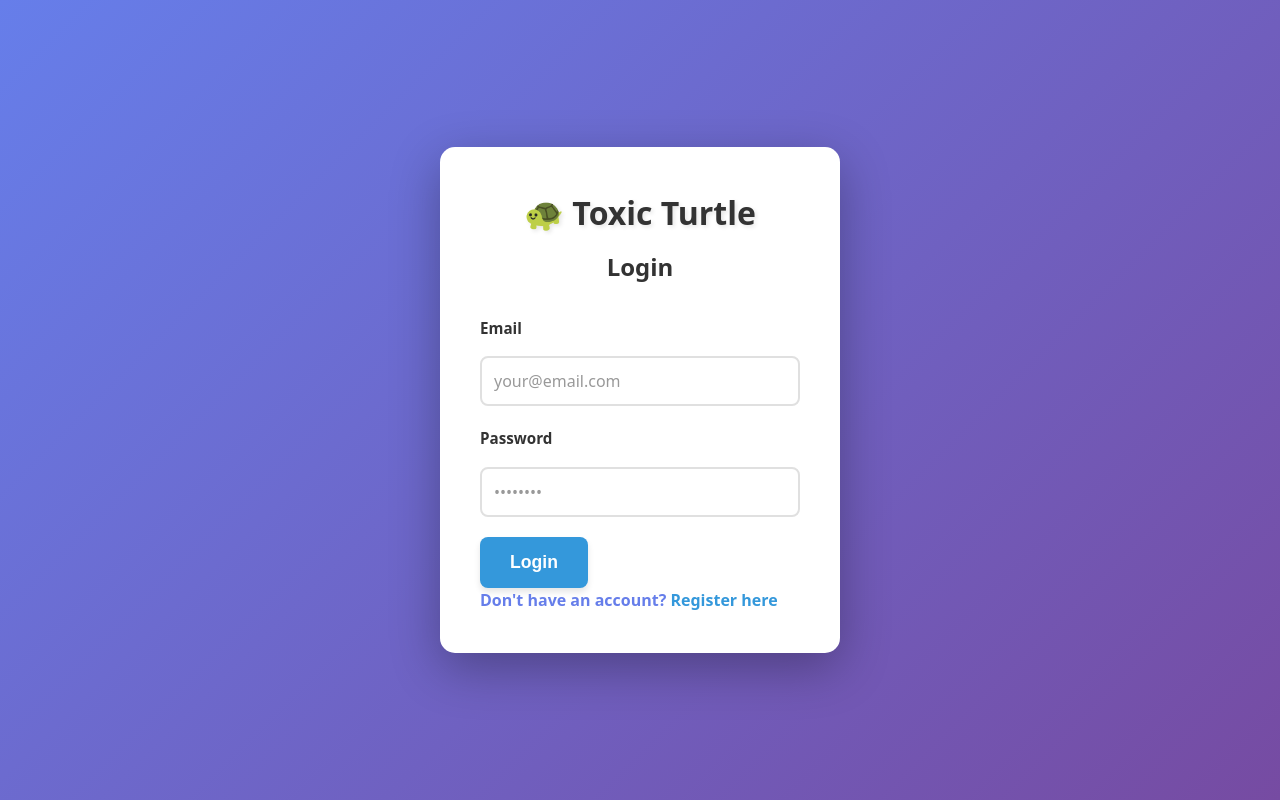
Test: LoginPage › should show error message on login failure
Type "test@example.com" into the field with placeholder "your@email.com". click: (640, 382)
box: [480,356,800,406]
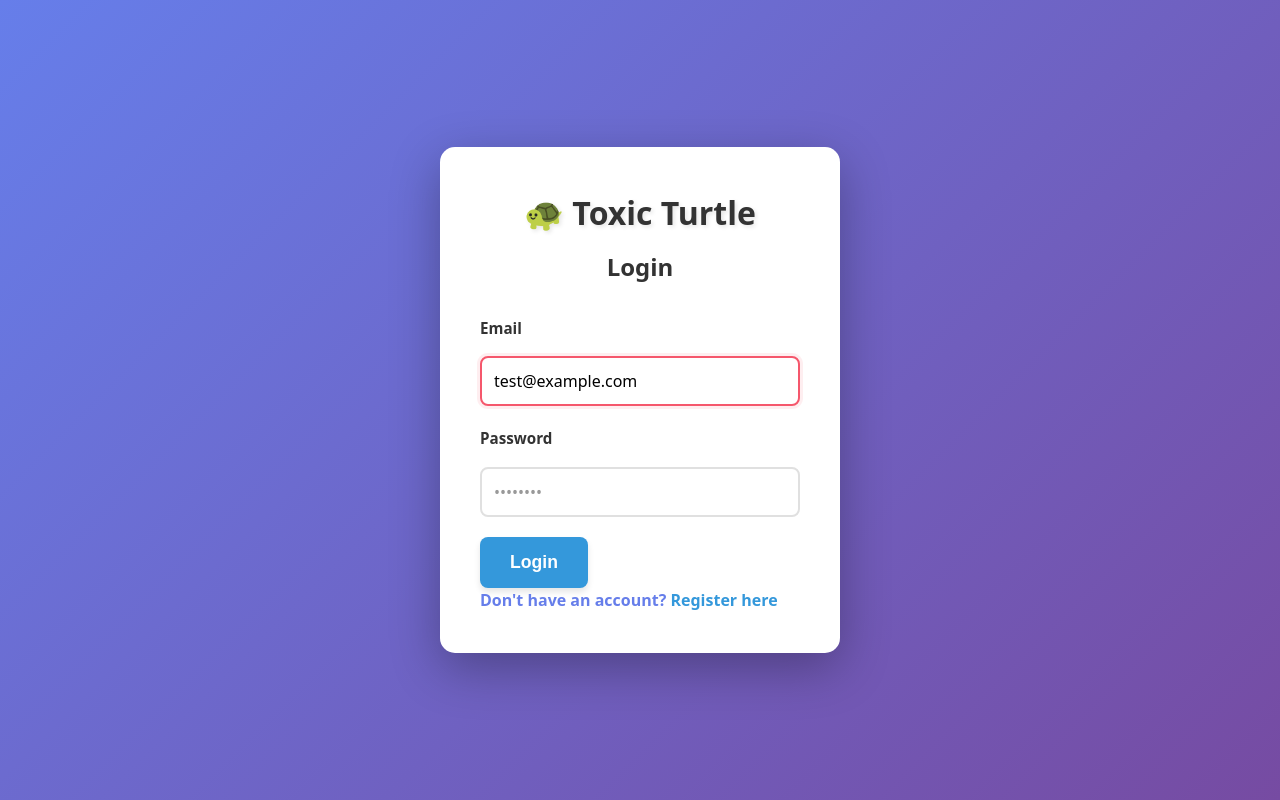
Type "wrongpassword" into the password field with placeholder "••••••••". click: (640, 492)
box: [480,467,800,517]
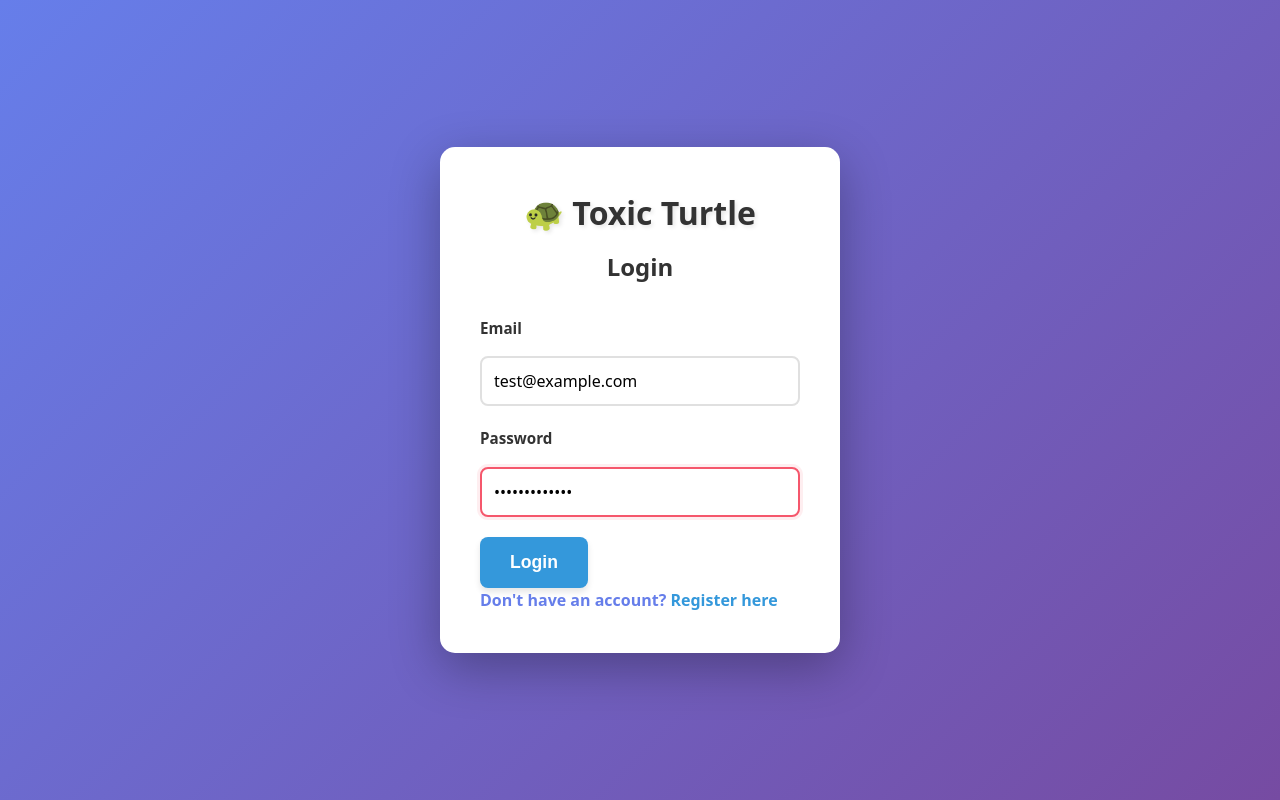
Click the button "Login". click: (534, 562)
box: [480,537,588,588]
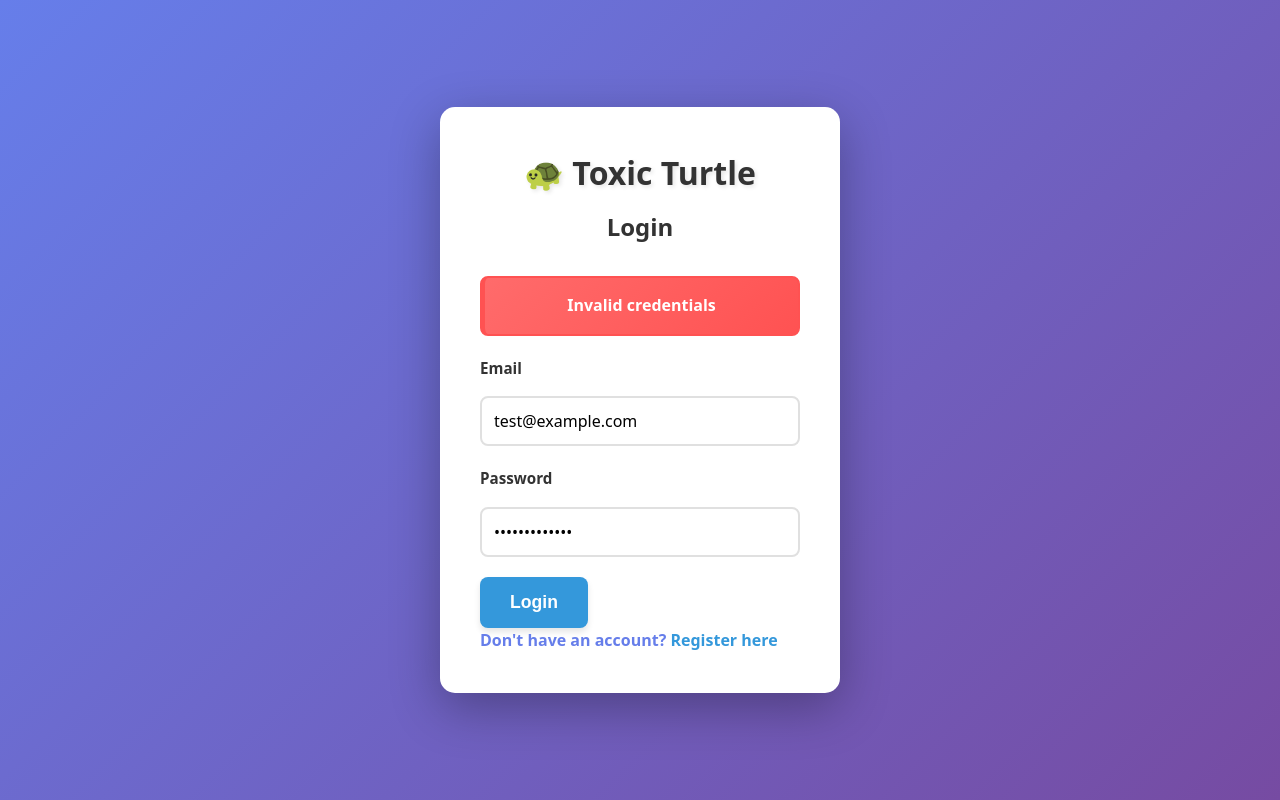
Check: the text "Invalid credentials" is shown, box [480,276,800,336]
